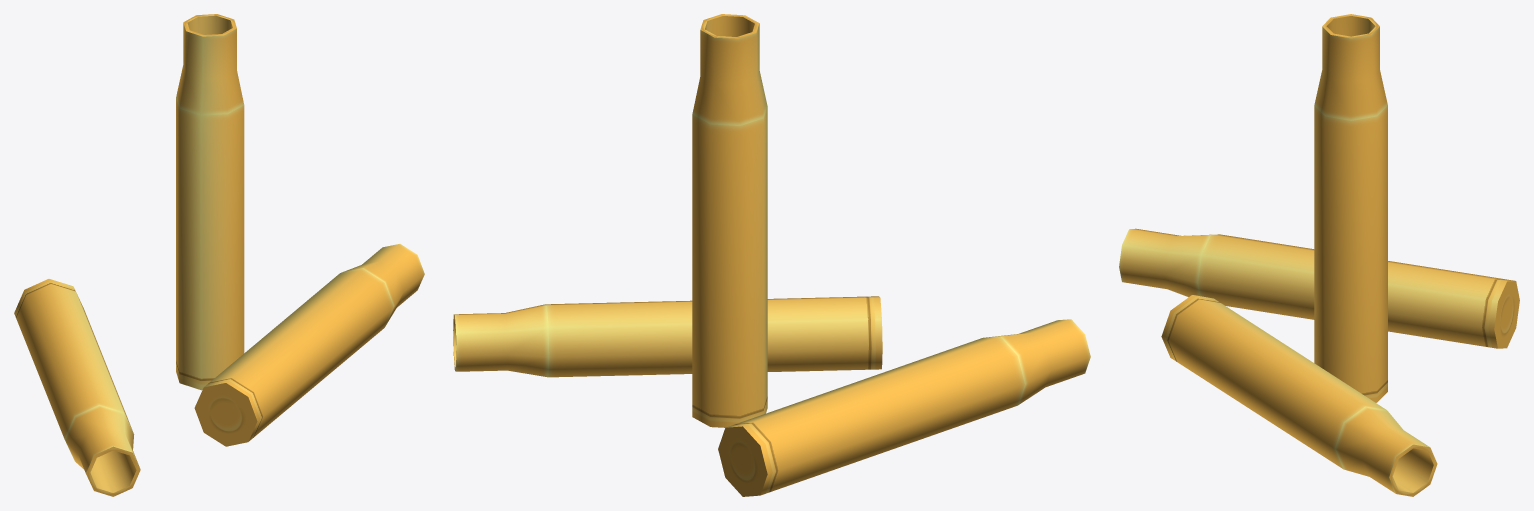
Rendered from bullet_casing.glb.
3 views of the same model, side by side, from view 1: azimuth 30°, elevation 25°; view 2: azimuth 150°, elevation 25°; view 3: azimuth 270°, elevation 25° (orthographic). The views are drawn at different scales.
Visible parts, largest first — view 1: Object_2; view 2: Object_2; view 3: Object_2.
Part boxes in pixels (x1,y1,x2,y2): Object_2: (14,14,424,496); Object_2: (453,14,1090,496); Object_2: (1119,14,1519,496).
Size of the model in its own units: 0.0747 by 0.0546 by 0.0542.
1 material, 1 textured.
